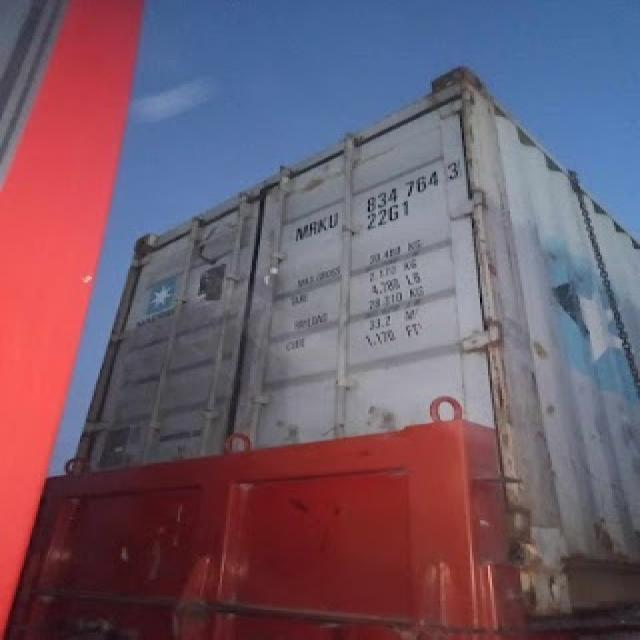ISO: (368, 200, 416, 230)
container_number: (286, 154, 466, 242)
